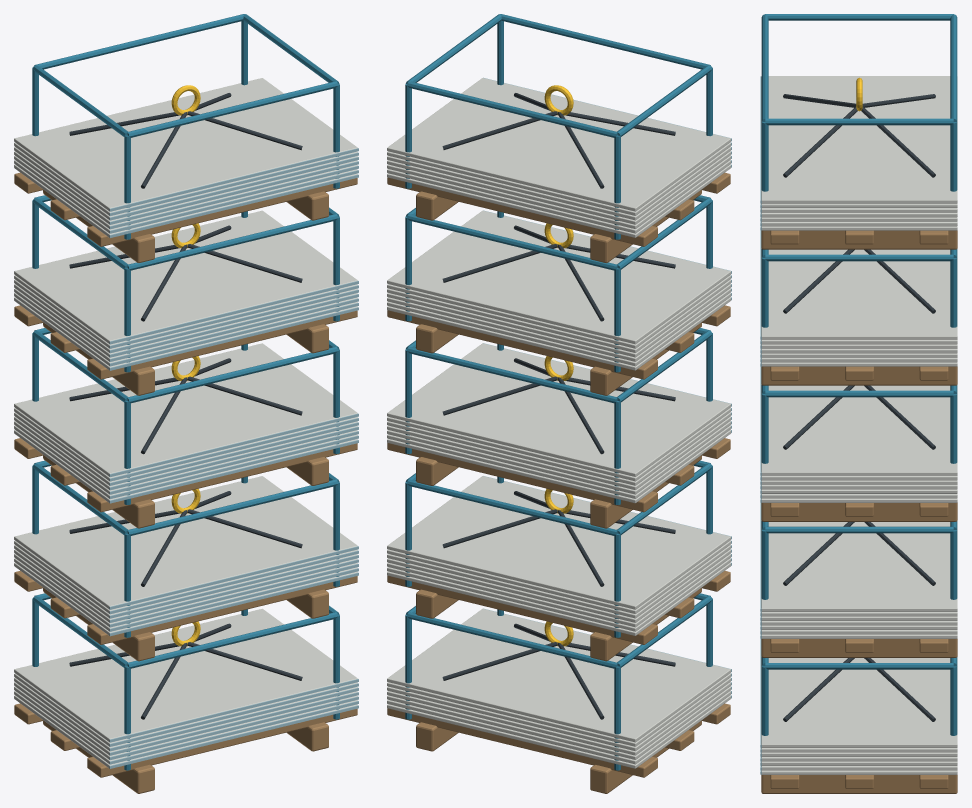
File: gypsum-stack.glb
The picture shows the model from 3 angles, left to right: view 1: azimuth 30°, elevation 25°; view 2: azimuth 150°, elevation 25°; view 3: azimuth 270°, elevation 25°; orthographic projection. The views are drawn at different scales.
Parts seen in each view (by area): view 1: GypsumBoard.034, GypsumBoard.013, GypsumBoard.027, GypsumBoard.006, GypsumBoard.020, PalletDeck.039, PalletDeck.036, PalletDeck.033, PalletDeck.030, PalletDeck.042, LiftFrameRail.028, LiftFrameRail.029 (+85 smaller); view 2: GypsumBoard.034, GypsumBoard.020, GypsumBoard.027, GypsumBoard.013, GypsumBoard.006, PalletDeck.044, PalletDeck.032, PalletDeck.041, PalletDeck.035, PalletDeck.038, GypsumBoard.005, GypsumBoard.023 (+50 smaller); view 3: GypsumBoard.034, GypsumBoard.020, GypsumBoard.027, GypsumBoard.013, GypsumBoard.006, PalletFoot.029, PalletFoot.027, PalletFoot.025, PalletFoot.021, PalletFoot.023, LiftFrameTop.025, LiftFrameTop.027 (+73 smaller).
Boxes of the visible parts, <box> form: GypsumBoard.034: <box>14,78,357,210</box>; GypsumBoard.013: <box>14,476,357,608</box>; GypsumBoard.027: <box>14,210,357,343</box>; GypsumBoard.006: <box>14,608,357,741</box>; GypsumBoard.020: <box>14,343,357,476</box>; PalletDeck.039: <box>87,310,357,379</box>; PalletDeck.036: <box>87,443,357,512</box>; PalletDeck.033: <box>87,576,357,644</box>; PalletDeck.030: <box>87,708,357,777</box>; PalletDeck.042: <box>87,178,357,246</box>; LiftFrameRail.028: <box>127,81,338,137</box>; LiftFrameRail.029: <box>34,14,244,69</box>; GypsumBoard.034: <box>387,78,730,211</box>; GypsumBoard.020: <box>387,343,730,476</box>; GypsumBoard.027: <box>387,210,730,344</box>; GypsumBoard.013: <box>387,476,730,609</box>; GypsumBoard.006: <box>387,608,730,742</box>; PalletDeck.044: <box>387,177,657,246</box>; PalletDeck.032: <box>387,708,657,777</box>; PalletDeck.041: <box>387,310,657,379</box>; PalletDeck.035: <box>387,575,657,644</box>; PalletDeck.038: <box>387,443,657,512</box>; GypsumBoard.005: <box>387,673,730,746</box>; GypsumBoard.023: <box>387,288,730,361</box>; GypsumBoard.034: <box>761,76,957,203</box>; GypsumBoard.020: <box>761,384,957,475</box>; GypsumBoard.027: <box>761,248,957,339</box>; GypsumBoard.013: <box>761,520,957,611</box>; GypsumBoard.006: <box>761,656,957,747</box>; PalletFoot.029: <box>761,230,957,249</box>; PalletFoot.027: <box>761,366,957,385</box>; PalletFoot.025: <box>761,502,957,521</box>; PalletFoot.021: <box>761,775,957,793</box>; PalletFoot.023: <box>761,639,957,657</box>; LiftFrameTop.025: <box>765,390,953,397</box>; LiftFrameTop.027: <box>765,254,953,261</box>.
Size of the model in its own units: 2.33 by 5.73 by 1.51.
